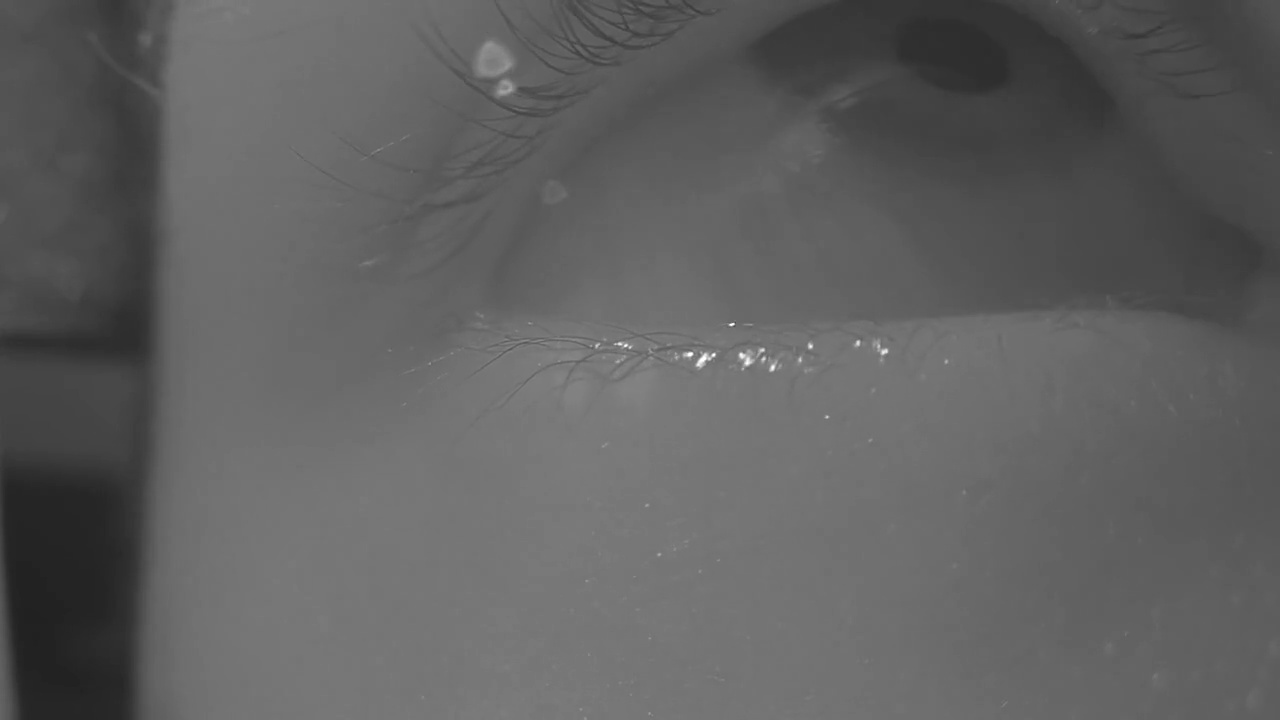pupil: (891, 15, 1007, 94)
